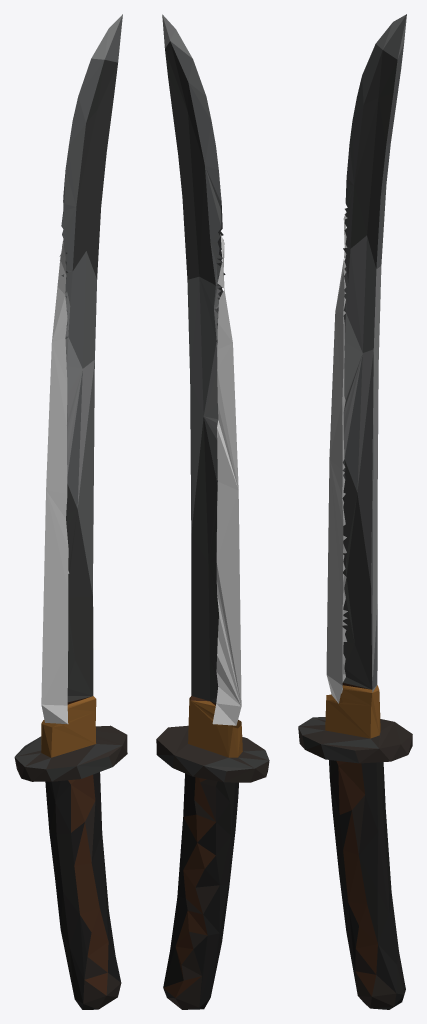
Rendered from aiwpn_katana.glb.
3 views of the same model, side by side, from view 1: azimuth 30°, elevation 25°; view 2: azimuth 150°, elevation 25°; view 3: azimuth 330°, elevation 25° (orthographic).
Parts seen in each view (by area): view 1: ca_aiwpn_katana; view 2: ca_aiwpn_katana; view 3: ca_aiwpn_katana.
Part boxes in pixels (left/top/right/bottom): ca_aiwpn_katana: left=14, top=14, right=127, bottom=1009; ca_aiwpn_katana: left=156, top=14, right=269, bottom=1009; ca_aiwpn_katana: left=298, top=14, right=412, bottom=1009.
Size of the model in its own units: 0.1523 by 1.36 by 0.0993.
